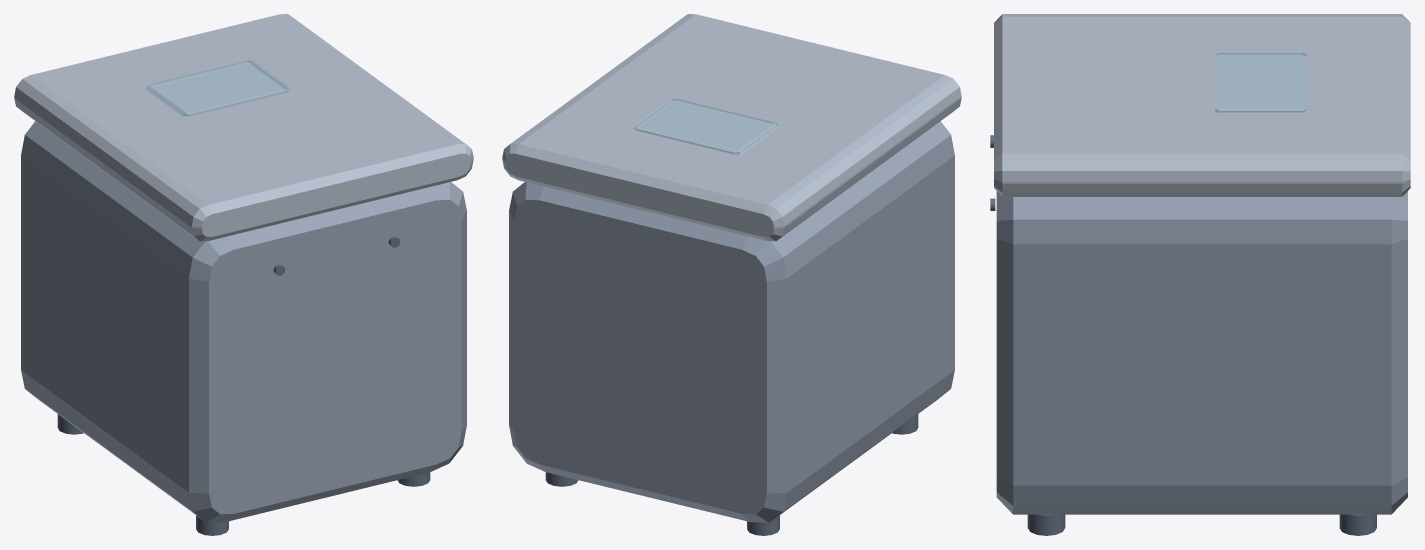
Rendered from bread-maker-lite.glb.
The picture shows the model from 3 angles, left to right: view 1: azimuth 30°, elevation 25°; view 2: azimuth 150°, elevation 25°; view 3: azimuth 270°, elevation 25°; orthographic projection. The views are drawn at different scales.
Visible parts, largest first — view 1: body, soft, glass, dark; view 2: body, soft, glass, dark; view 3: body, soft, glass, dark.
Part boxes in pixels (x1,y1,x2,y2): body: (21,121,466,522); soft: (14,14,473,241); glass: (145,60,290,116); dark: (57,236,430,535); body: (509,121,954,522); soft: (502,14,961,241); glass: (633,98,778,154); dark: (545,414,918,535); body: (996,191,1407,514); soft: (994,14,1410,196); glass: (1215,51,1306,113); dark: (990,135,1376,535).
Bounding box in the file's own units: 0.294 × 0.3469 × 0.337.
